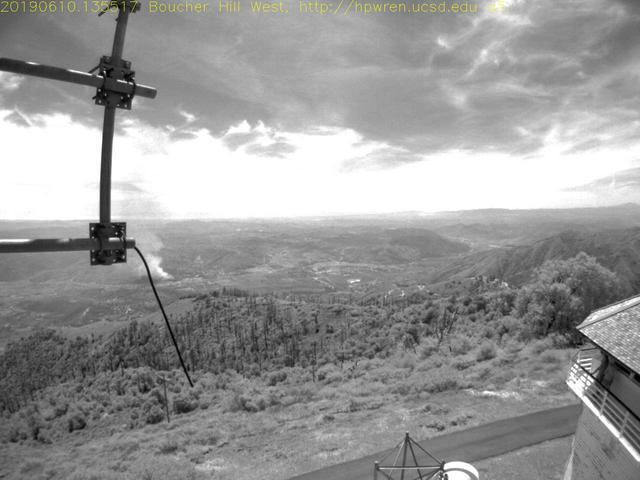Smoke: (126, 194, 174, 284)
